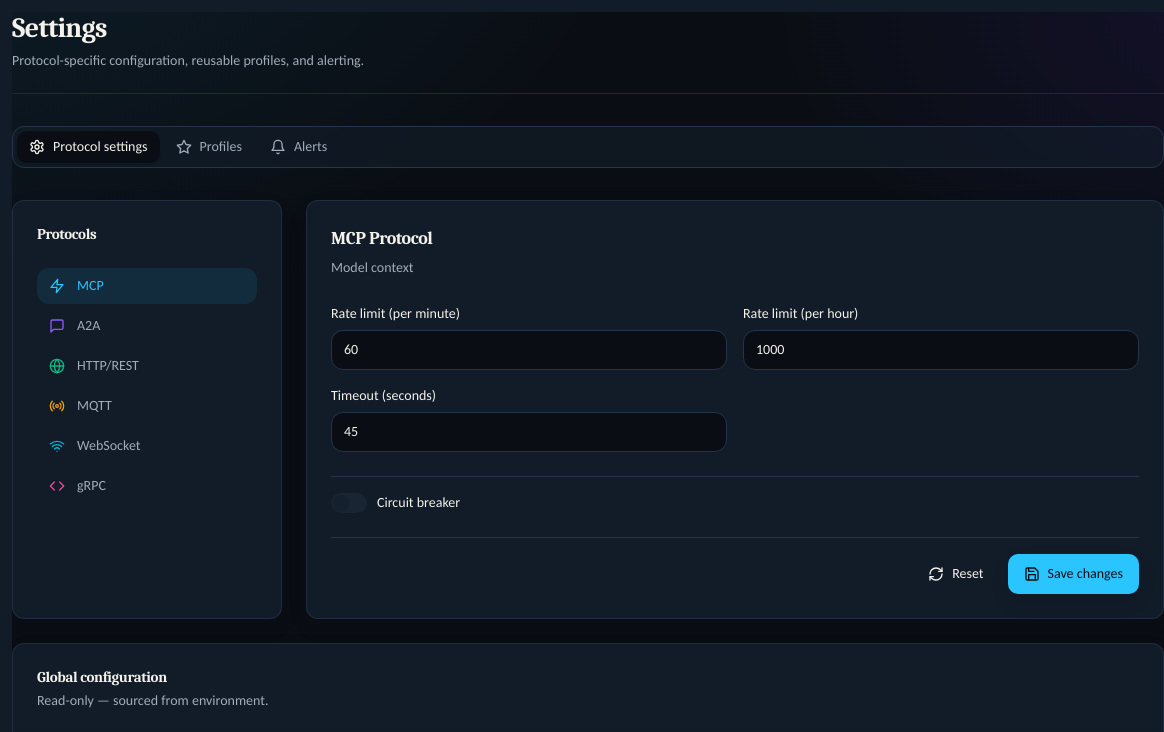
it: Settings page › protocols tab › switches protocol and reveals protocol-specific fields
Check: the heading "MCP Protocol" is shown, box [331,228,432,249]
Click the button "MQTT" at (147, 406), box [37,388,257,424]
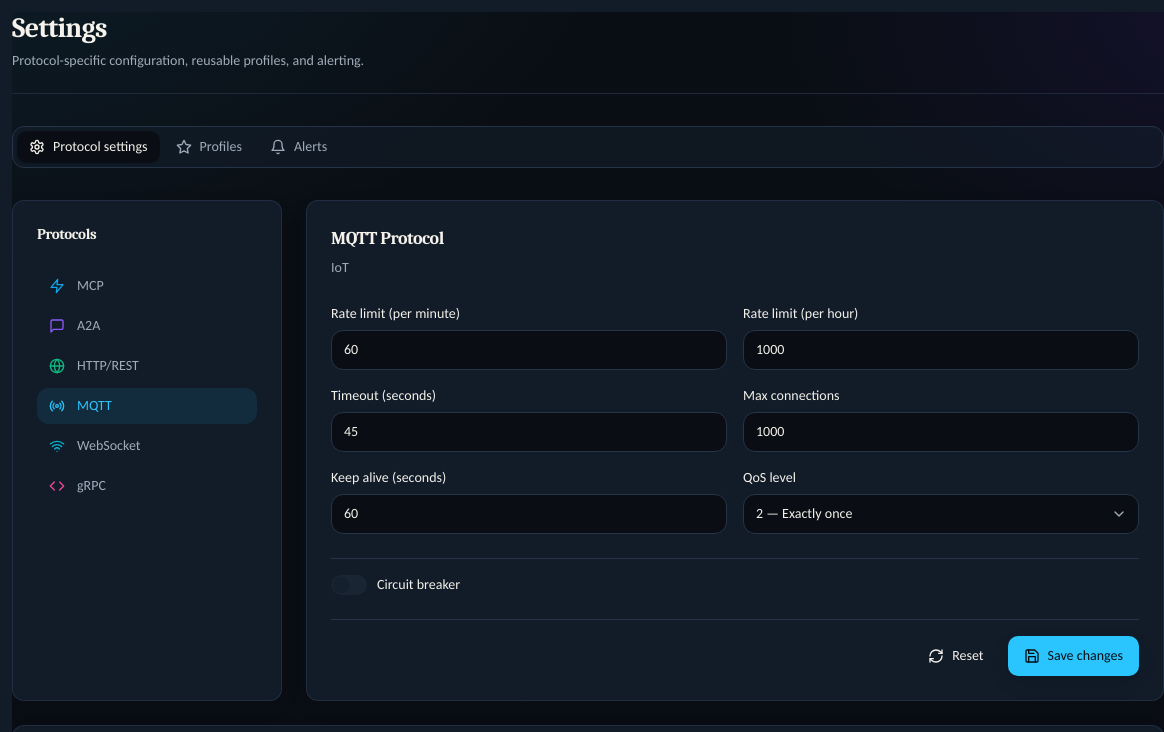
Check: the heading "MQTT Protocol" is shown, box [331,228,444,249]
Check: the dropdown labelled "QoS level" shows "2 — Exactly once", box [743,494,1139,534]
Check: the number field labelled "Max connections" is shown, box [743,412,1139,452]
Click the button "HTTP/REST" at (147, 366), box [37,348,257,384]
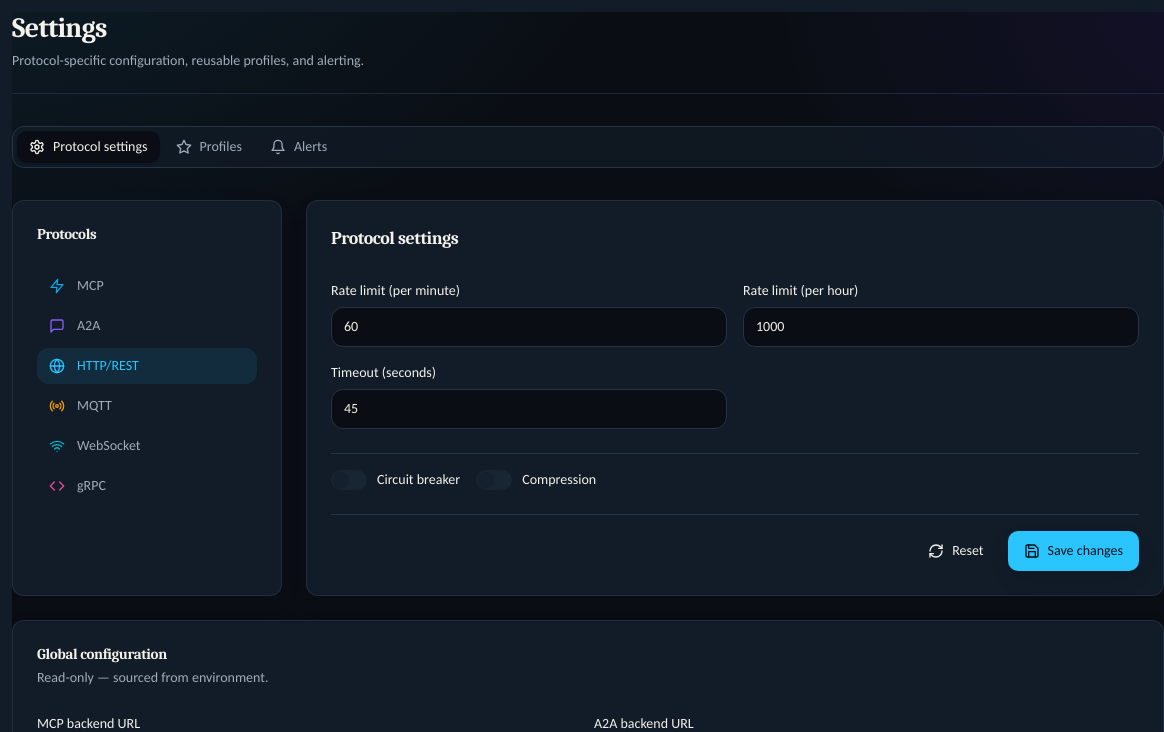
Check: the tab "Protocol settings" is shown, box [17,131,160,163]
Check: the text "Compression" is shown, box [522,470,596,490]
